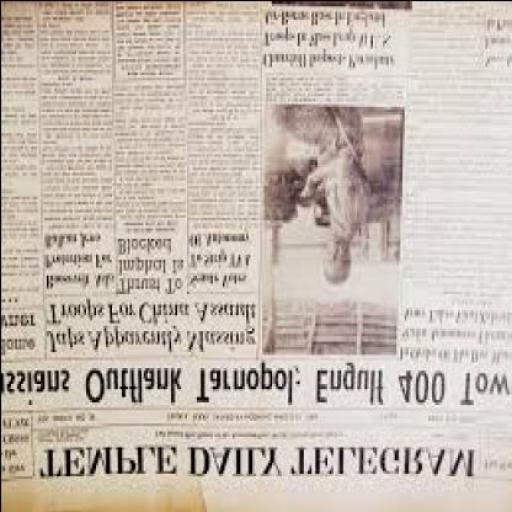paper: (2, 2, 510, 504)
